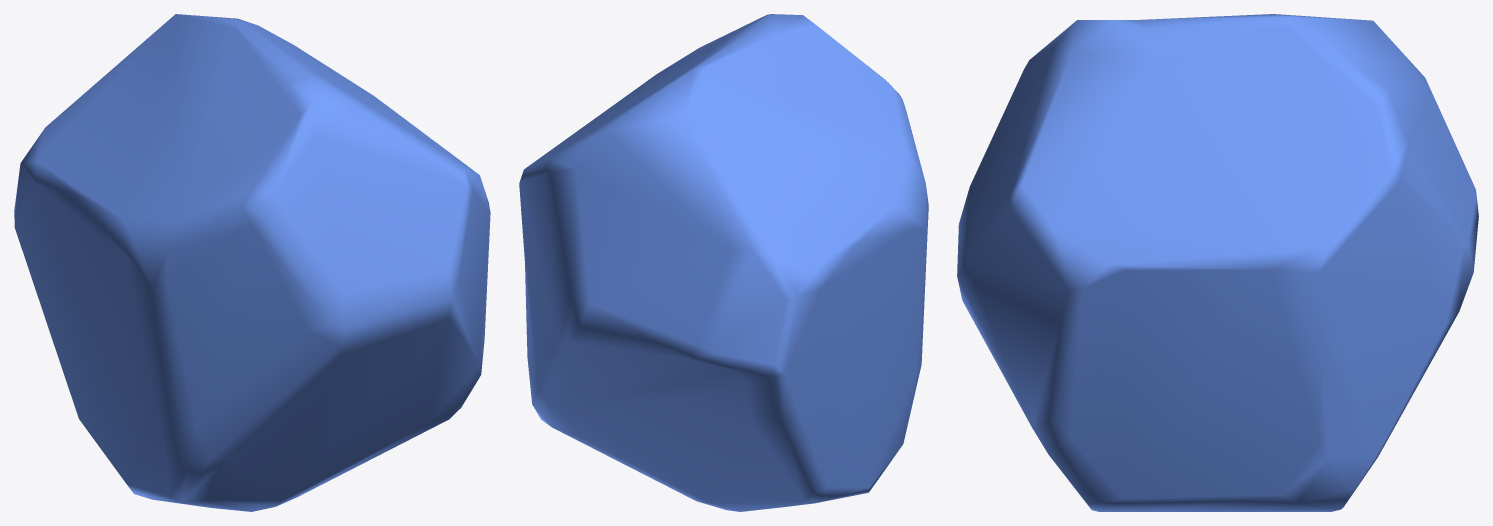
File: SM_Env_Nature_Rock_04.obj
The picture shows the model from 3 angles, left to right: view 1: azimuth 30°, elevation 25°; view 2: azimuth 150°, elevation 25°; view 3: azimuth 270°, elevation 25°; orthographic projection. The views are drawn at different scales.
Visible parts, largest first — view 1: SM_Env_Nature_Rock_04_Mat_GradientRock; view 2: SM_Env_Nature_Rock_04_Mat_GradientRock; view 3: SM_Env_Nature_Rock_04_Mat_GradientRock.
Part boxes in pixels (x1,y1,x2,y2): SM_Env_Nature_Rock_04_Mat_GradientRock: (14, 14, 490, 511); SM_Env_Nature_Rock_04_Mat_GradientRock: (519, 14, 928, 511); SM_Env_Nature_Rock_04_Mat_GradientRock: (957, 14, 1478, 511).
Size of the model in its own units: 1.16 by 1.51 by 1.39.
1 material, 1 textured.
